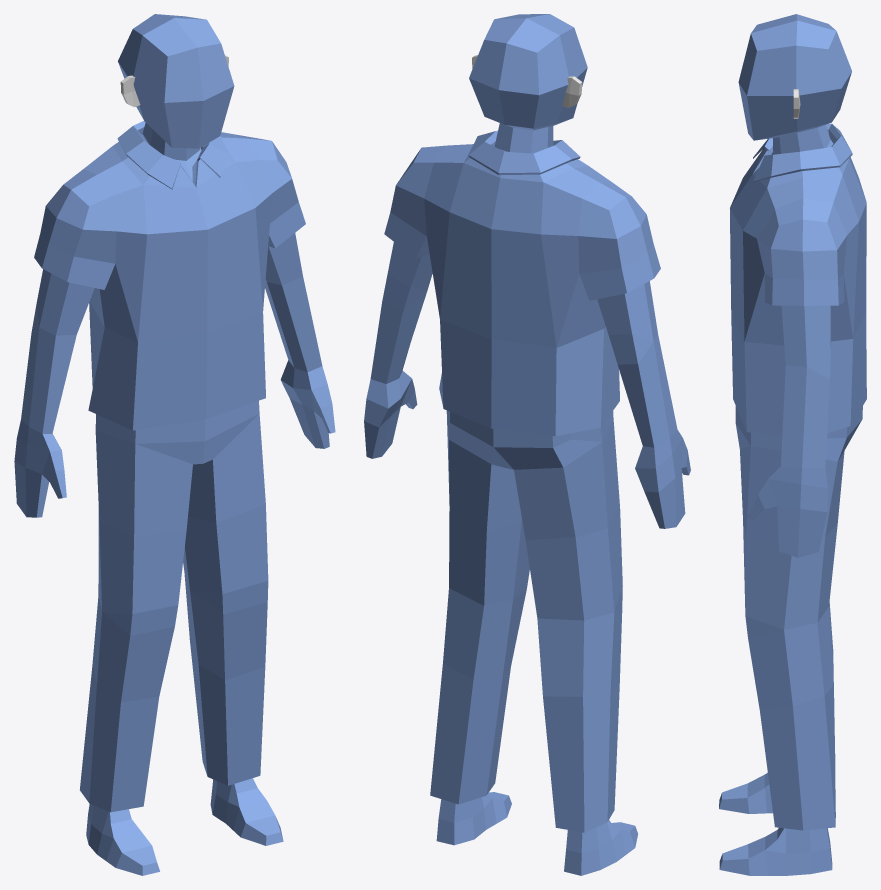
Rendered from Male Teenager Body.fbx.
3 renders of one model, left to right at view 1: azimuth 30°, elevation 25°; view 2: azimuth 150°, elevation 25°; view 3: azimuth 270°, elevation 25°, orthographic.
Parts seen in each view (by area): view 1: Pants Uniform, Shirt Uniform, Teenager Male Body; view 2: Pants Uniform, Shirt Uniform, Teenager Male Body; view 3: Shirt Uniform, Teenager Male Body, Pants Uniform.
Boxes of the visible parts, box(x1,y1,x2,y2) form: Pants Uniform: box(80, 401, 268, 812); Shirt Uniform: box(34, 121, 305, 430); Teenager Male Body: box(14, 14, 335, 875); Pants Uniform: box(430, 410, 622, 832); Shirt Uniform: box(384, 130, 660, 436); Teenager Male Body: box(364, 14, 690, 875); Shirt Uniform: box(730, 123, 866, 435); Teenager Male Body: box(719, 14, 851, 875); Pants Uniform: box(735, 406, 862, 830).
Bounding box in the file's own units: 64 × 168 × 27.71.
